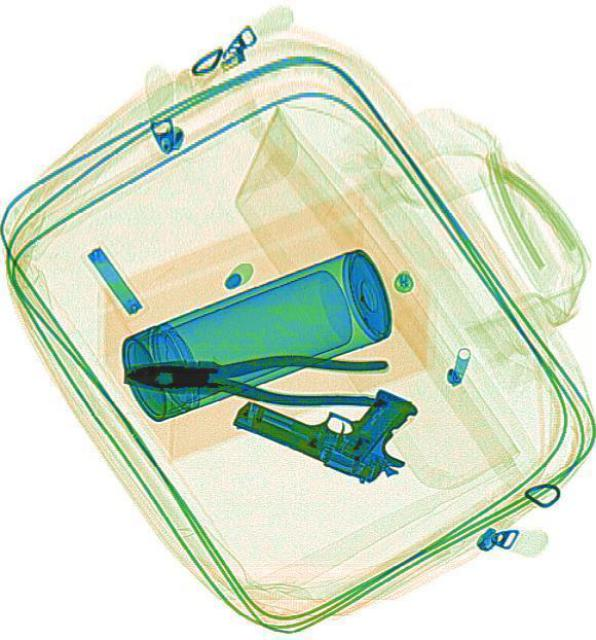Gun: (227, 338, 427, 494)
Pliers: (121, 343, 386, 409)
